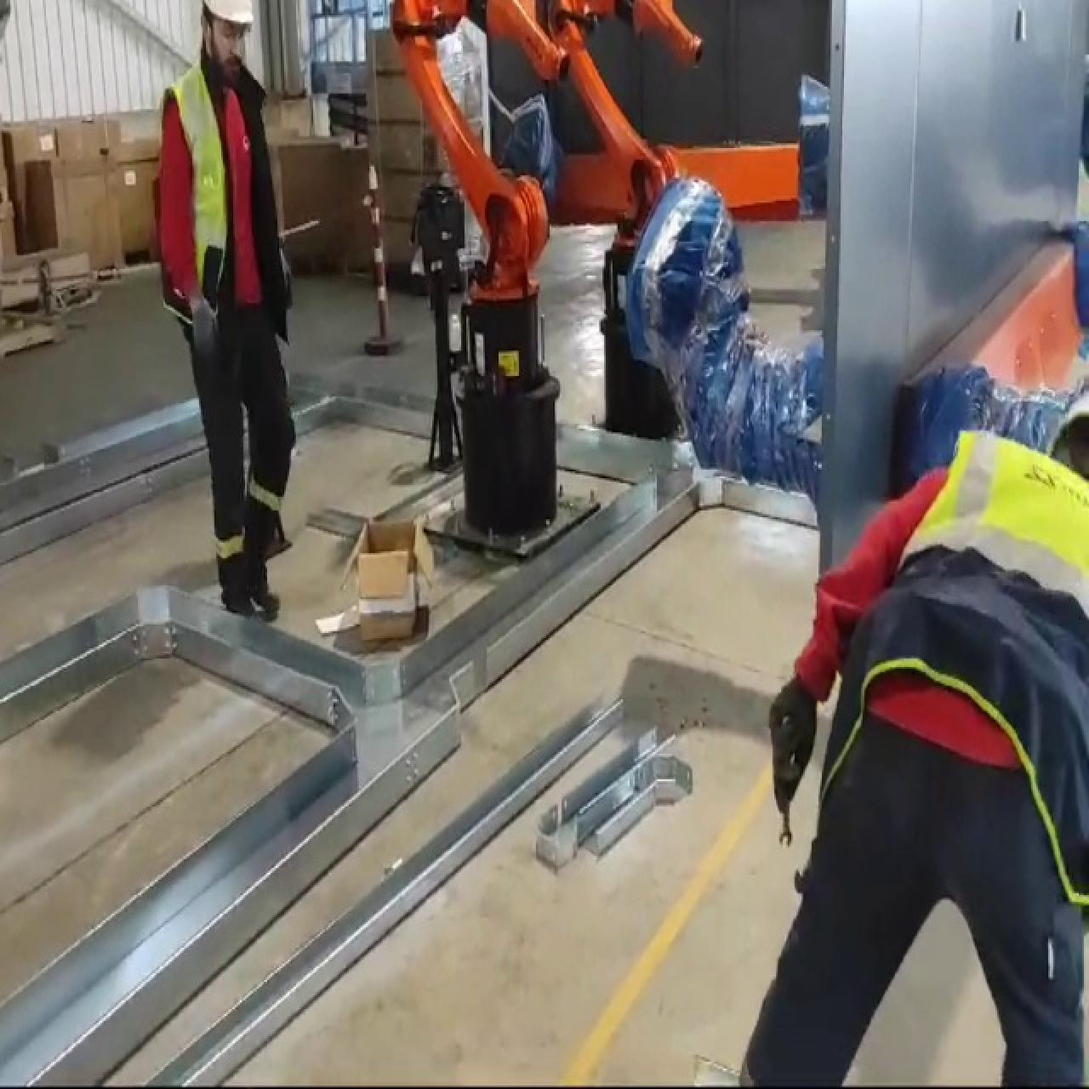Person: (778, 407, 1089, 1089), (138, 0, 316, 625)
Safety_Vest: (818, 427, 1089, 932), (152, 48, 306, 330)
